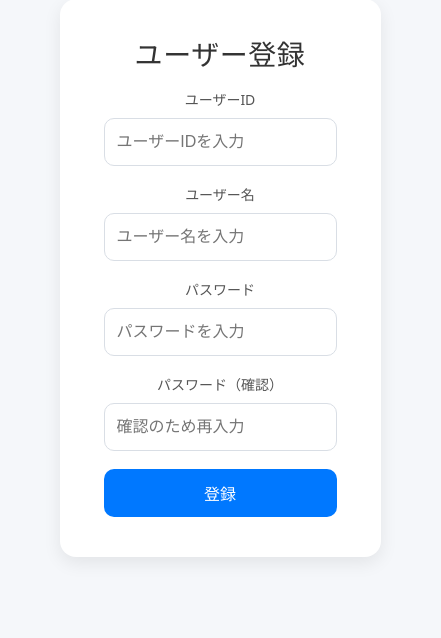
Test case: RegistUser Component › パスワードとパスワード（確認）が一致しない場合、エラーメッセージが表示されることを確認
Type "registMismatchUser" into the field with placeholder "ユーザーIDを入力" at (220, 142), box x1=104 y1=118 x2=336 y2=166
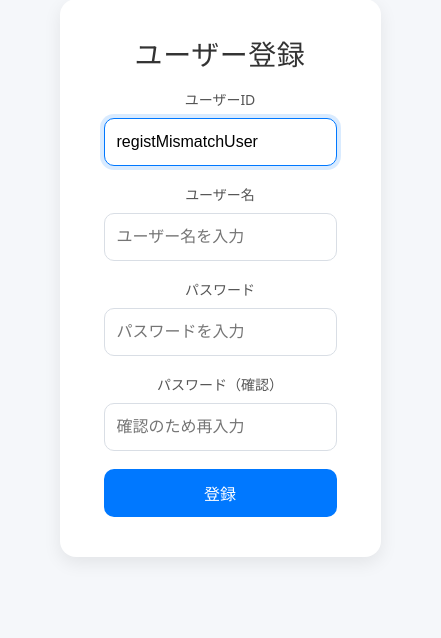
Type "registMismatchUserName" into the field with placeholder "ユーザー名を入力" at (220, 237), box x1=104 y1=213 x2=336 y2=261
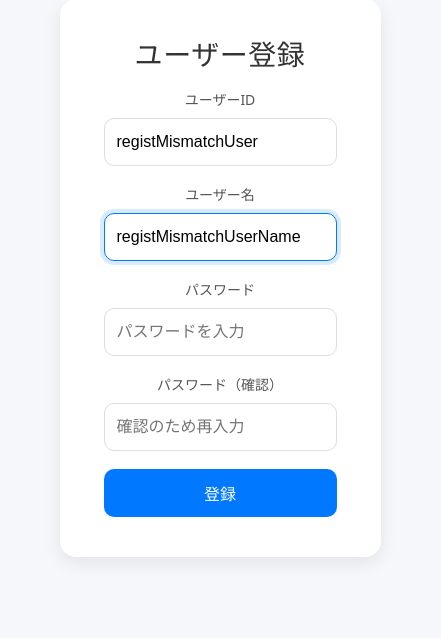
Type "registMismatchPassword" into the password field with placeholder "パスワードを入力" at (220, 332), box x1=104 y1=308 x2=336 y2=356
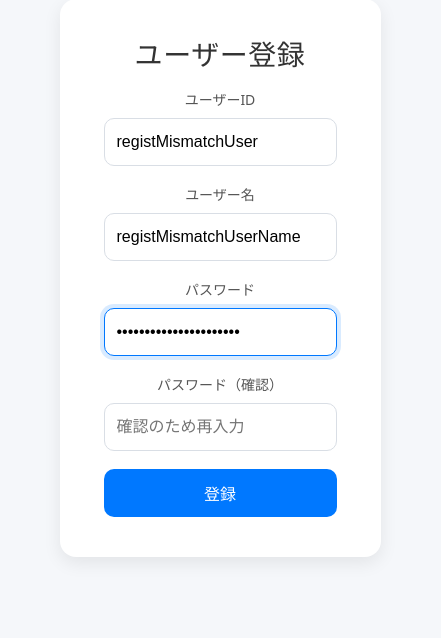
Type "differentPassword" into the password field with placeholder "確認のため再入力" at (220, 427), box x1=104 y1=403 x2=336 y2=451
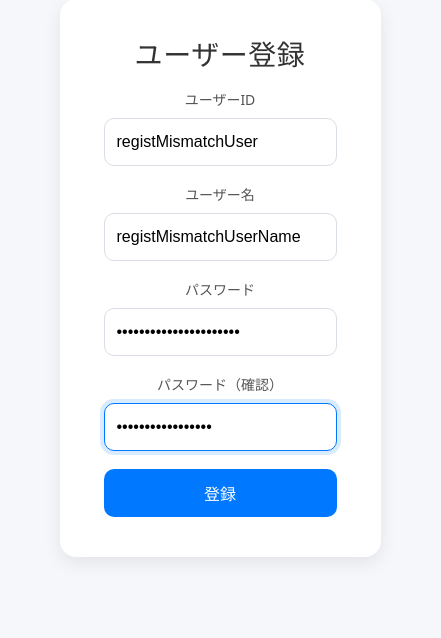
Click the button "登録" at (220, 493), box x1=104 y1=469 x2=336 y2=517
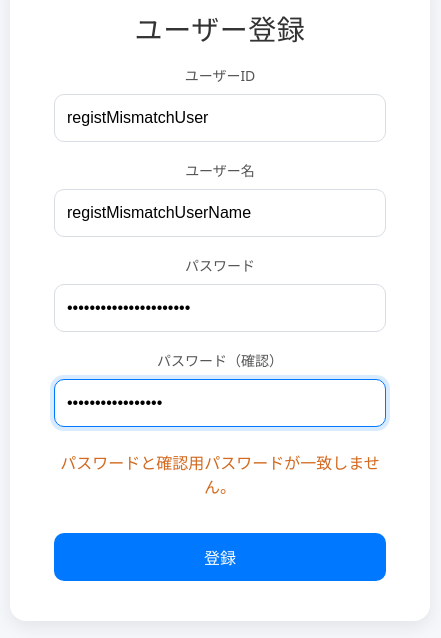
Expected: the text "パスワードと確認用パスワードが一致しません。" is shown, x1=54 y1=451 x2=386 y2=499
